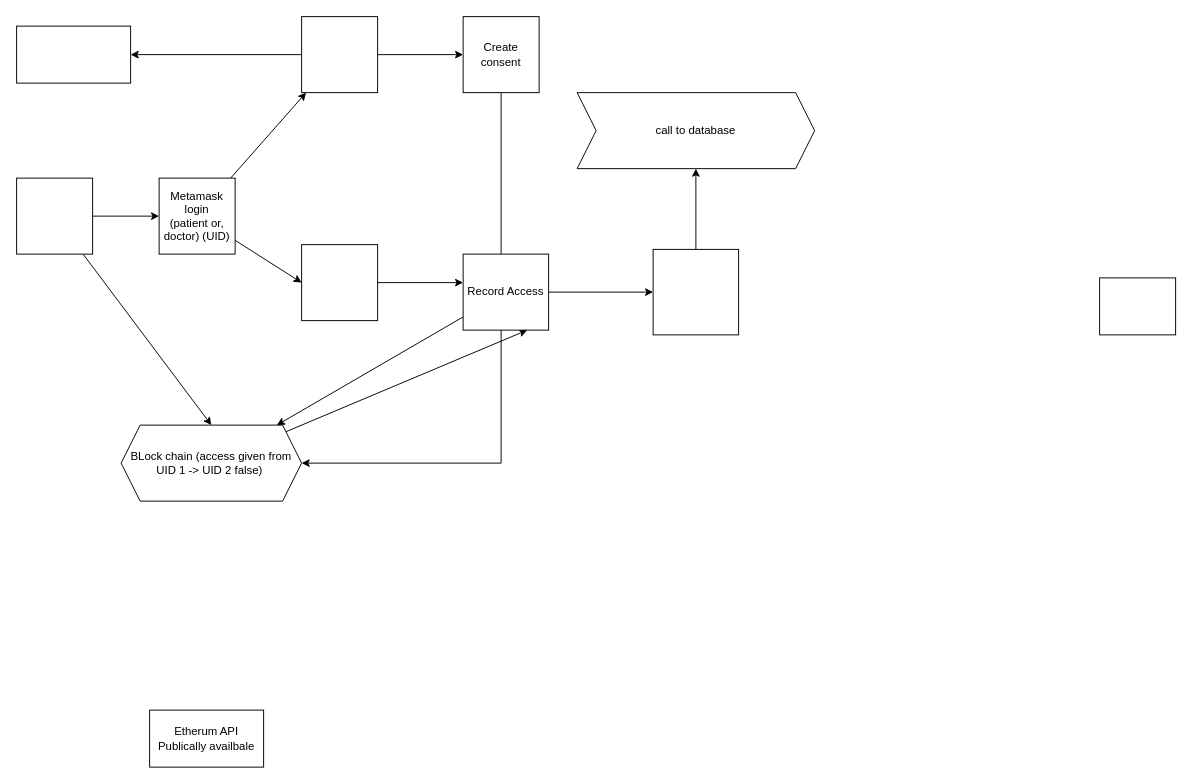
The diagram is 1192 pixels wide and 784 high, and some of its shapes have lost their labels. Each missing label, with the centre of its shape:
pD: the point at 339,54
React app: the point at 54,215
Wallet: the point at 1137,306
